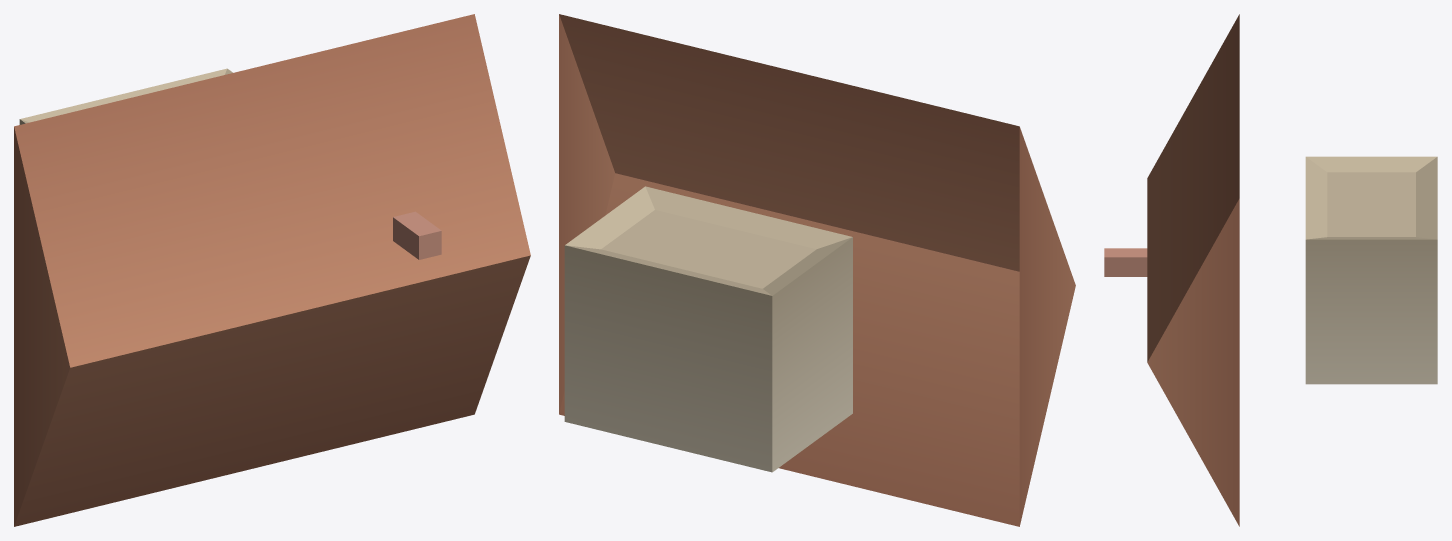
File: building_house.glb
The picture shows the model from 3 angles, left to right: view 1: azimuth 30°, elevation 25°; view 2: azimuth 150°, elevation 25°; view 3: azimuth 270°, elevation 25°; orthographic projection. The views are drawn at different scales.
Parts seen in each view (by area): view 1: roof, chimney, walls; view 2: roof, walls; view 3: roof, walls, chimney.
Boxes of the visible parts, box(x1,y1,x2,y2) form: roof: box(14, 14, 530, 526); chimney: box(393, 211, 441, 259); walls: box(19, 68, 232, 124); roof: box(559, 14, 1075, 526); walls: box(564, 186, 852, 472); roof: box(1147, 14, 1239, 526); walls: box(1305, 156, 1437, 384); chimney: box(1104, 248, 1147, 276).
Bounding box in the file's own units: 7.1 × 5.9 × 5.43.
